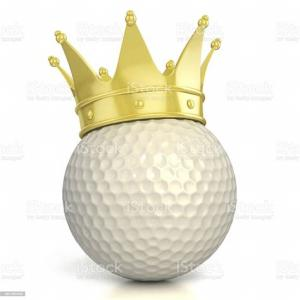Golf: (62, 114, 240, 283)
